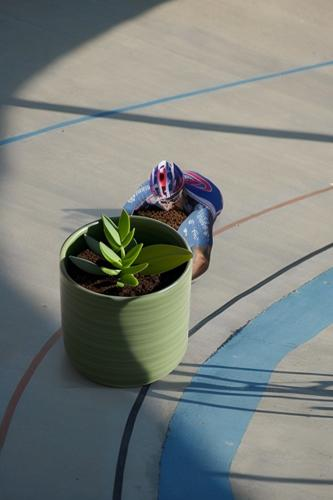person: (103, 159, 225, 372)
person/foot: (106, 333, 130, 361), (99, 267, 121, 297)
person/hand: (98, 246, 118, 265), (160, 284, 175, 302)
person/head: (149, 161, 186, 215)
pottedplant: (61, 209, 194, 387)
